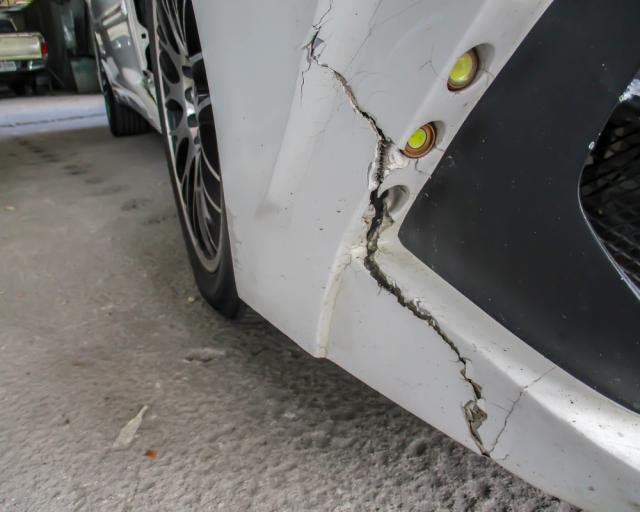crack: (299, 0, 559, 456)
